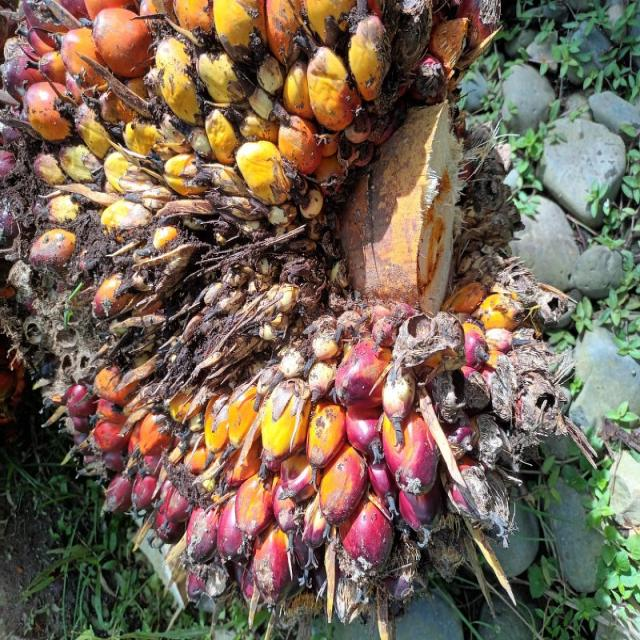fraksi 1: (0, 100, 459, 640)
